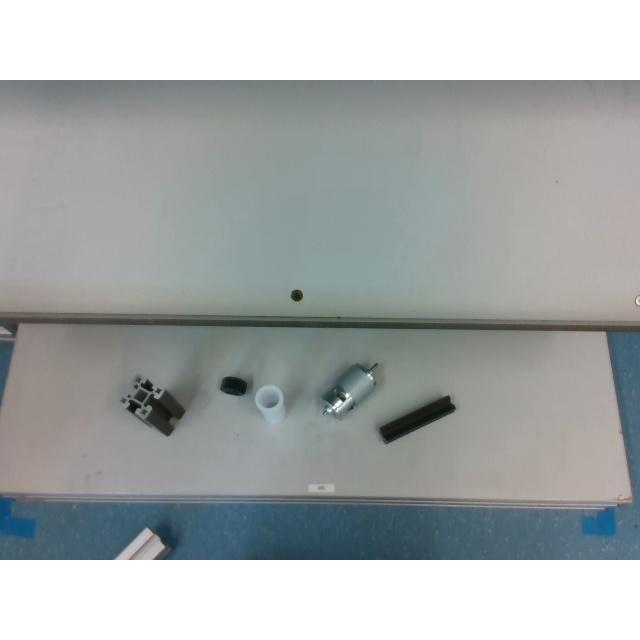F20_20_B: (379, 395, 455, 443)
M20: (219, 376, 247, 396)
Motor2: (322, 364, 378, 416)
S40_40_B: (120, 374, 183, 434)
Spacer: (254, 384, 284, 424)
